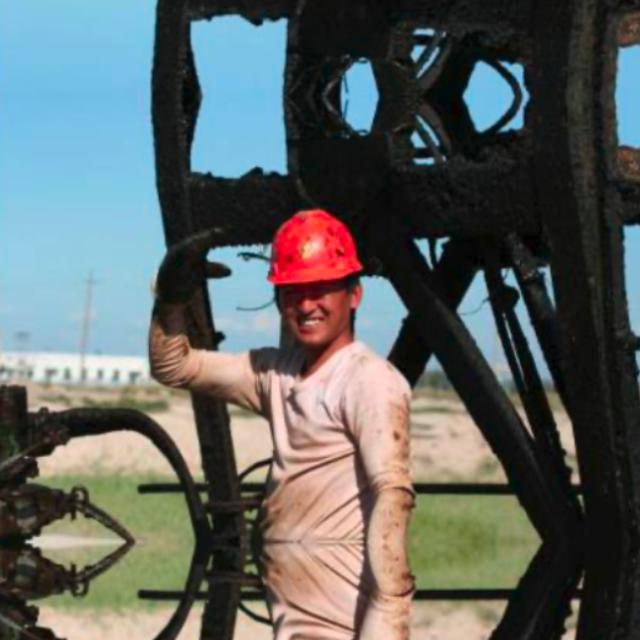safetyhelmet: (265, 207, 354, 334)
